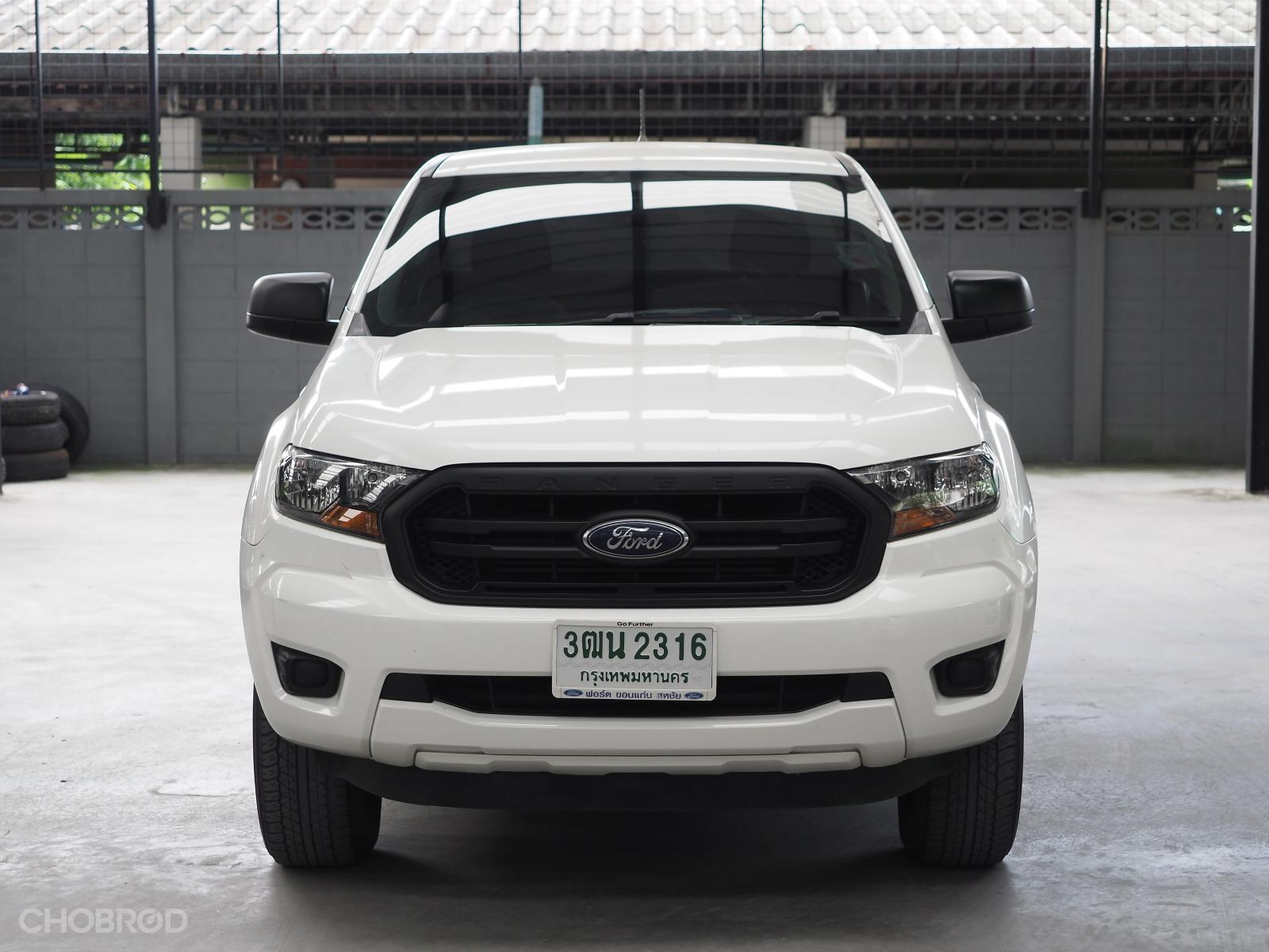license-plate: (545, 616, 721, 708)
